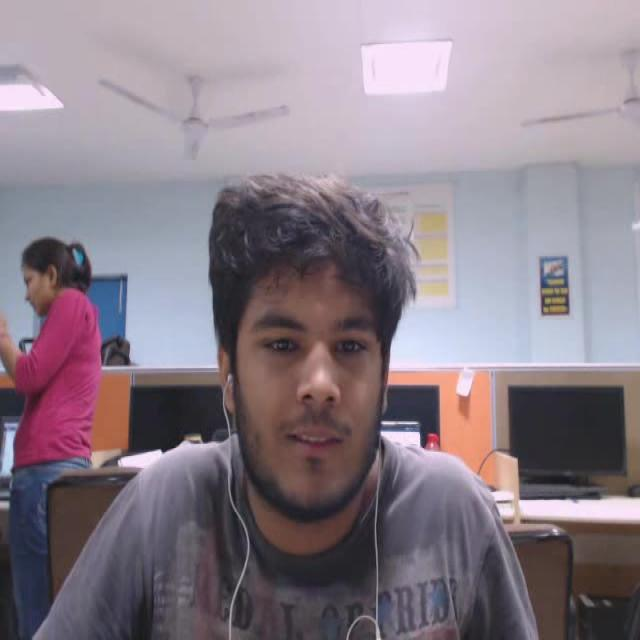Engaged: (188, 156, 434, 554)
